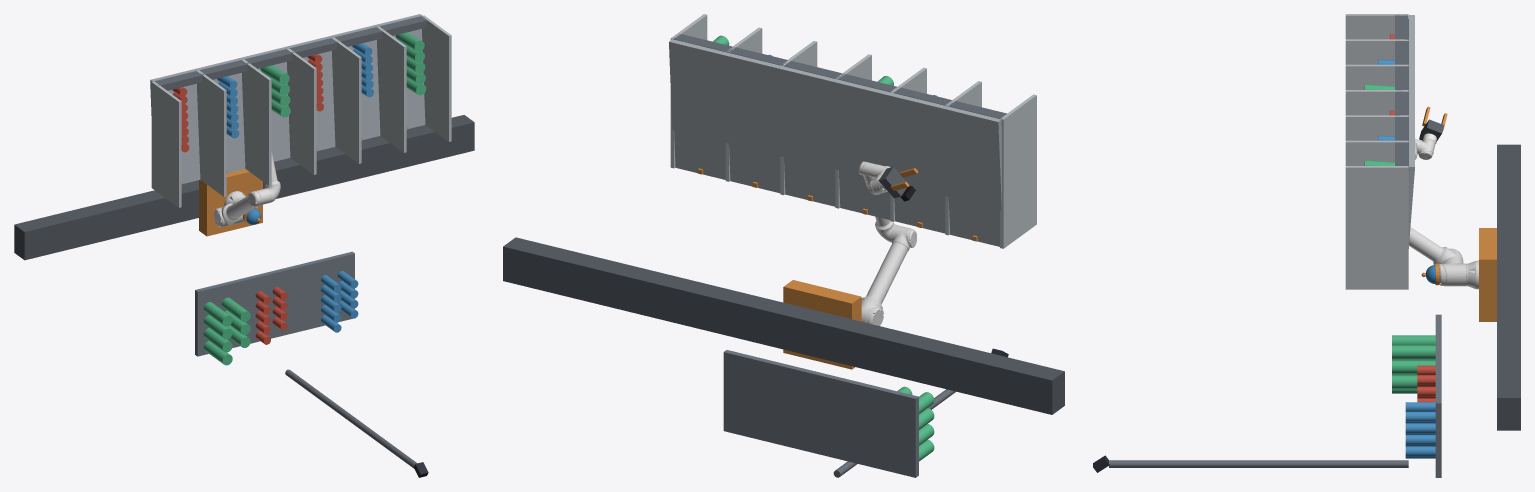
File: restocking_cell.glb
3 renders of one model, left to right at view 1: azimuth 30°, elevation 25°; view 2: azimuth 150°, elevation 25°; view 3: azimuth 270°, elevation 25°, orthographic. The views are drawn at different scales.
Parts seen in each view (by area): view 1: robot__rail_base__visual_0, workcell__roller_bed, workcell__stock_tray, workcell__divider_left_frame, workcell__front_retainer, workcell__divider_lane_01_02_divider, workcell__divider_lane_02_03_divider, workcell__divider_lane_04_05_divider, workcell__divider_lane_05_06_divider, workcell__divider_lane_03_04_divider, workcell__divider_right_frame, robot__carriage__visual_0 (+2 smaller); view 2: workcell__roller_bed, robot__rail_base__visual_0, workcell__stock_tray, workcell__divider_left_frame, workcell__front_retainer, robot__carriage__visual_0, robot__upper_arm_link__visual_0, workcell__divider_right_frame, workcell__divider_lane_05_06_divider, workcell__divider_lane_04_05_divider, workcell__divider_lane_03_04_divider, workcell__divider_lane_01_02_divider (+2 smaller); view 3: workcell__divider_right_frame, robot__rail_base__visual_0, workcell__camera_mast, workcell__front_retainer, robot__carriage__visual_0, workcell__roller_bed, workcell__divider_left_frame, workcell__divider_lane_03_04_divider, workcell__divider_lane_01_02_divider, workcell__divider_lane_04_05_divider, workcell__divider_lane_02_03_divider, workcell__divider_lane_05_06_divider (+6 smaller).
Part boxes in pixels (x1,y1,x2,y2): robot__rail_base__visual_0: [14, 115, 474, 260]; workcell__roller_bed: [150, 14, 425, 183]; workcell__stock_tray: [195, 251, 354, 356]; workcell__divider_left_frame: [151, 81, 181, 207]; workcell__front_retainer: [155, 16, 427, 90]; workcell__divider_lane_01_02_divider: [197, 70, 226, 196]; workcell__divider_lane_02_03_divider: [242, 59, 271, 185]; workcell__divider_lane_04_05_divider: [332, 37, 361, 163]; workcell__divider_lane_05_06_divider: [377, 26, 406, 152]; workcell__divider_lane_03_04_divider: [287, 48, 316, 174]; workcell__divider_right_frame: [422, 15, 451, 141]; robot__carriage__visual_0: [199, 169, 262, 236]; workcell__roller_bed: [669, 39, 1001, 246]; robot__rail_base__visual_0: [503, 237, 1064, 414]; workcell__stock_tray: [723, 350, 918, 477]; workcell__divider_left_frame: [1000, 94, 1036, 248]; workcell__front_retainer: [673, 34, 1006, 118]; robot__carriage__visual_0: [783, 280, 861, 369]; robot__upper_arm_link__visual_0: [861, 225, 916, 325]; workcell__divider_right_frame: [670, 14, 707, 168]; workcell__divider_lane_05_06_divider: [725, 27, 762, 181]; workcell__divider_lane_04_05_divider: [780, 41, 817, 195]; workcell__divider_lane_03_04_divider: [835, 54, 871, 208]; workcell__divider_lane_01_02_divider: [945, 81, 981, 235]; workcell__divider_right_frame: [1345, 166, 1408, 289]; robot__rail_base__visual_0: [1497, 144, 1520, 430]; workcell__camera_mast: [1109, 460, 1408, 467]; workcell__front_retainer: [1395, 15, 1408, 165]; robot__carriage__visual_0: [1479, 228, 1496, 321]; workcell__roller_bed: [1408, 14, 1414, 248]; workcell__divider_left_frame: [1345, 14, 1408, 39]; workcell__divider_lane_03_04_divider: [1345, 90, 1408, 115]; workcell__divider_lane_01_02_divider: [1345, 39, 1408, 64]; workcell__divider_lane_04_05_divider: [1345, 115, 1408, 140]; workcell__divider_lane_02_03_divider: [1345, 64, 1408, 89]; workcell__divider_lane_05_06_divider: [1345, 140, 1408, 165].
Size of the model in its own units: 4 by 2.8 by 2.86.
